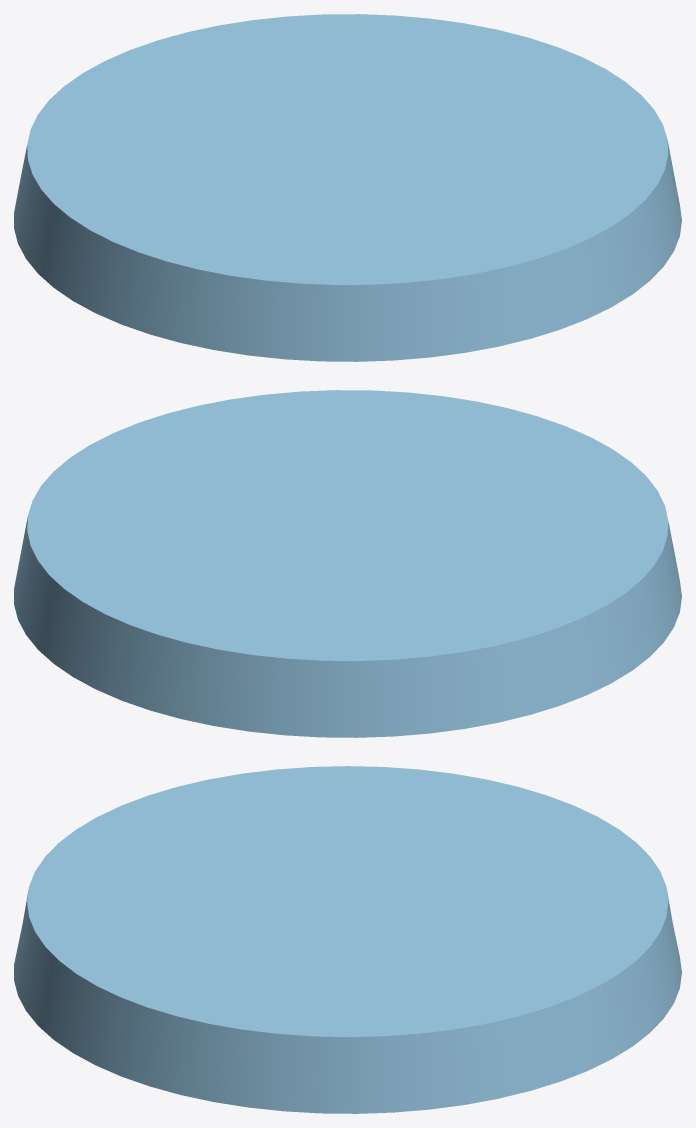
The model's file is 125_tapa_corcho.glb.
The picture shows the model from 3 angles, top to bottom: view 1: azimuth 30°, elevation 25°; view 2: azimuth 150°, elevation 25°; view 3: azimuth 270°, elevation 25°; orthographic projection.
Parts seen in each view (by area): view 1: Part 1; view 2: Part 1; view 3: Part 1.
Part boxes in pixels (x1,y1,x2,y2): Part 1: (14,14,681,361); Part 1: (14,390,681,737); Part 1: (14,766,681,1113).
Bounding box in the file's own units: 0.1279 × 0.015 × 0.1278.
